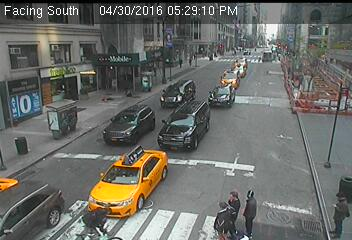neg: (82, 201, 110, 238), (283, 102, 300, 125), (302, 53, 318, 74), (219, 14, 234, 35), (275, 64, 290, 84), (48, 121, 63, 140), (329, 76, 343, 95), (81, 10, 94, 28), (12, 128, 24, 145), (133, 135, 145, 151), (205, 119, 217, 134), (55, 14, 66, 28), (109, 86, 119, 100), (139, 54, 149, 68), (45, 74, 55, 88), (252, 135, 262, 149), (129, 11, 139, 24), (105, 47, 114, 60), (325, 131, 334, 144), (79, 93, 88, 105), (226, 61, 235, 73), (278, 36, 286, 47), (287, 158, 295, 168), (178, 14, 186, 24), (70, 51, 77, 61), (241, 74, 248, 83), (183, 164, 190, 173), (214, 46, 220, 54), (131, 100, 136, 107), (89, 133, 93, 139), (77, 154, 81, 160), (156, 88, 160, 93)
pos: (231, 188, 268, 237), (321, 188, 351, 239), (216, 191, 249, 234), (210, 201, 235, 235), (186, 56, 194, 67), (176, 58, 183, 68), (252, 45, 258, 54)
